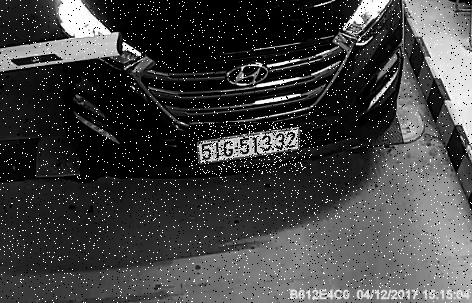License-plate: (191, 124, 314, 176)
